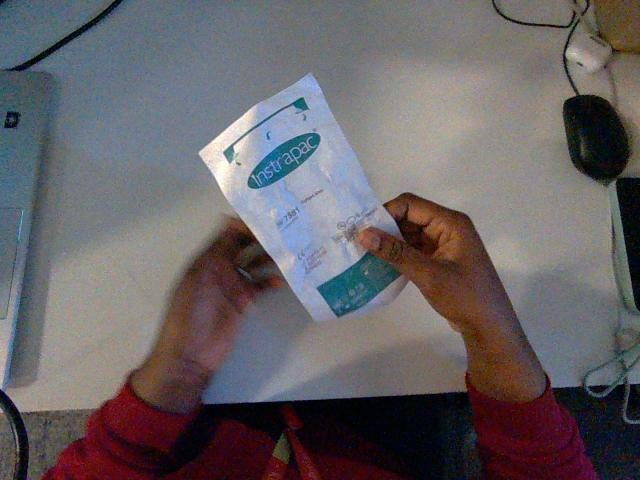gallipot: (200, 74, 406, 320)
